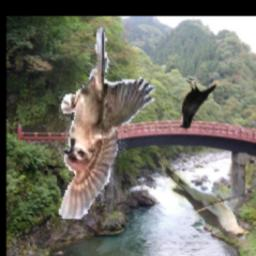Crow: (180, 77, 217, 130)
Cuckoo: (160, 159, 251, 239)
Sparrow: (60, 23, 157, 220)
